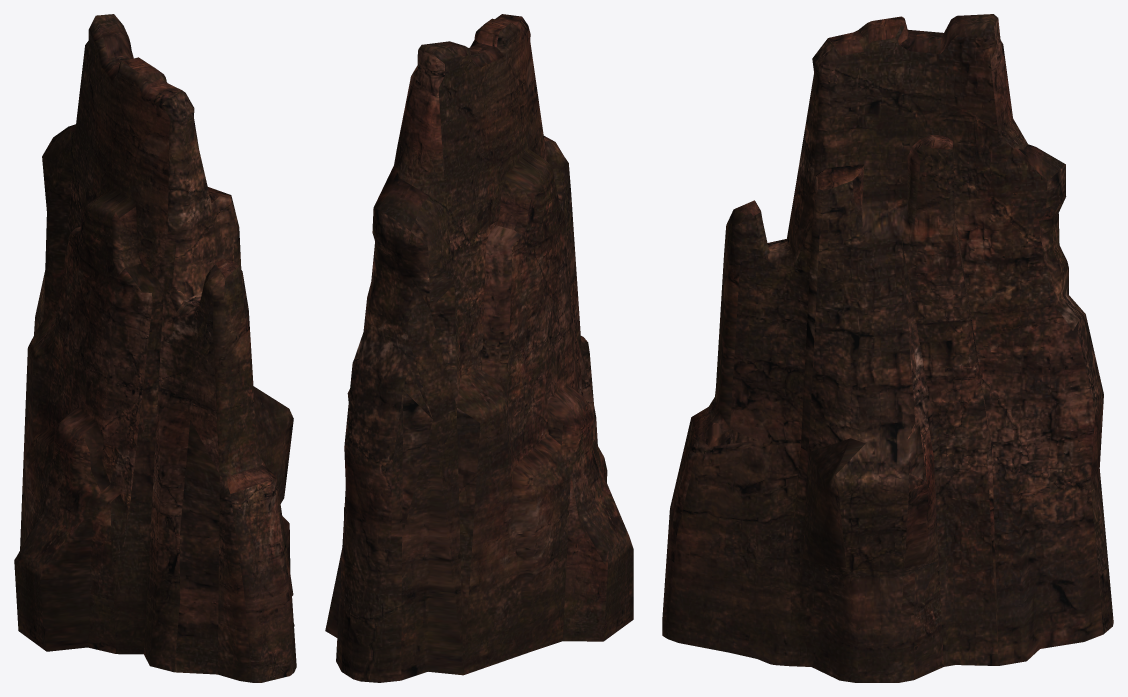
File: rock_red_pillar_large02.dae
3 views of the same model, side by side, from view 1: azimuth 30°, elevation 25°; view 2: azimuth 150°, elevation 25°; view 3: azimuth 270°, elevation 25° (orthographic). The views are drawn at different scales.
Parts seen in each view (by area): view 1: Cube; view 2: Cube; view 3: Cube.
Boxes of the visible parts, x1,y1,x2,y2 form: Cube: (14,14,296,682); Cube: (325,14,633,682); Cube: (662,14,1113,682).
Size of the model in its own units: 17.28 by 36.48 by 24.86.
